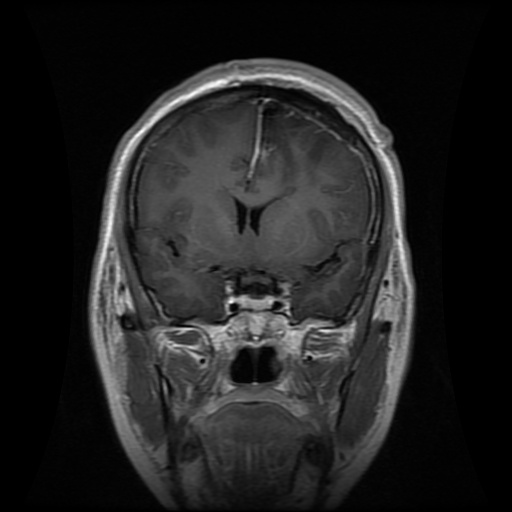glioma: (256, 99, 304, 171)
